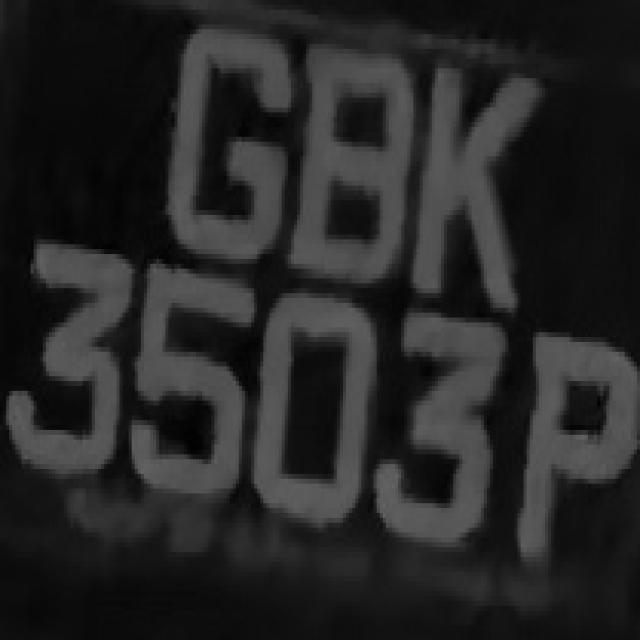0: (245, 264, 364, 542)
3: (383, 283, 493, 567), (22, 220, 132, 484)
5: (132, 235, 251, 503)
B: (300, 49, 413, 273)
G: (162, 34, 285, 264)
K: (410, 44, 539, 308)
P: (508, 308, 640, 562)
